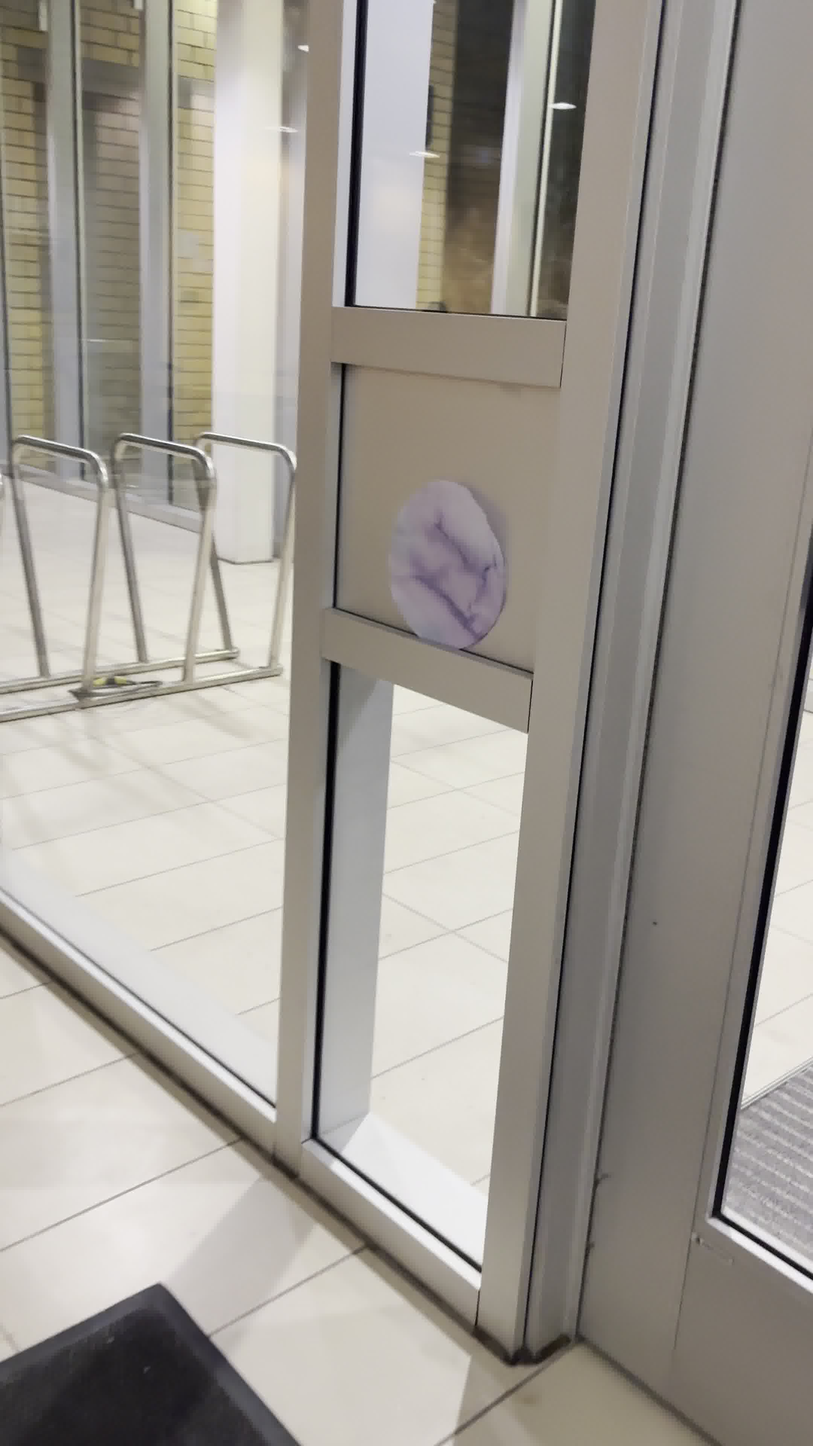Target: (382, 470, 515, 657)
